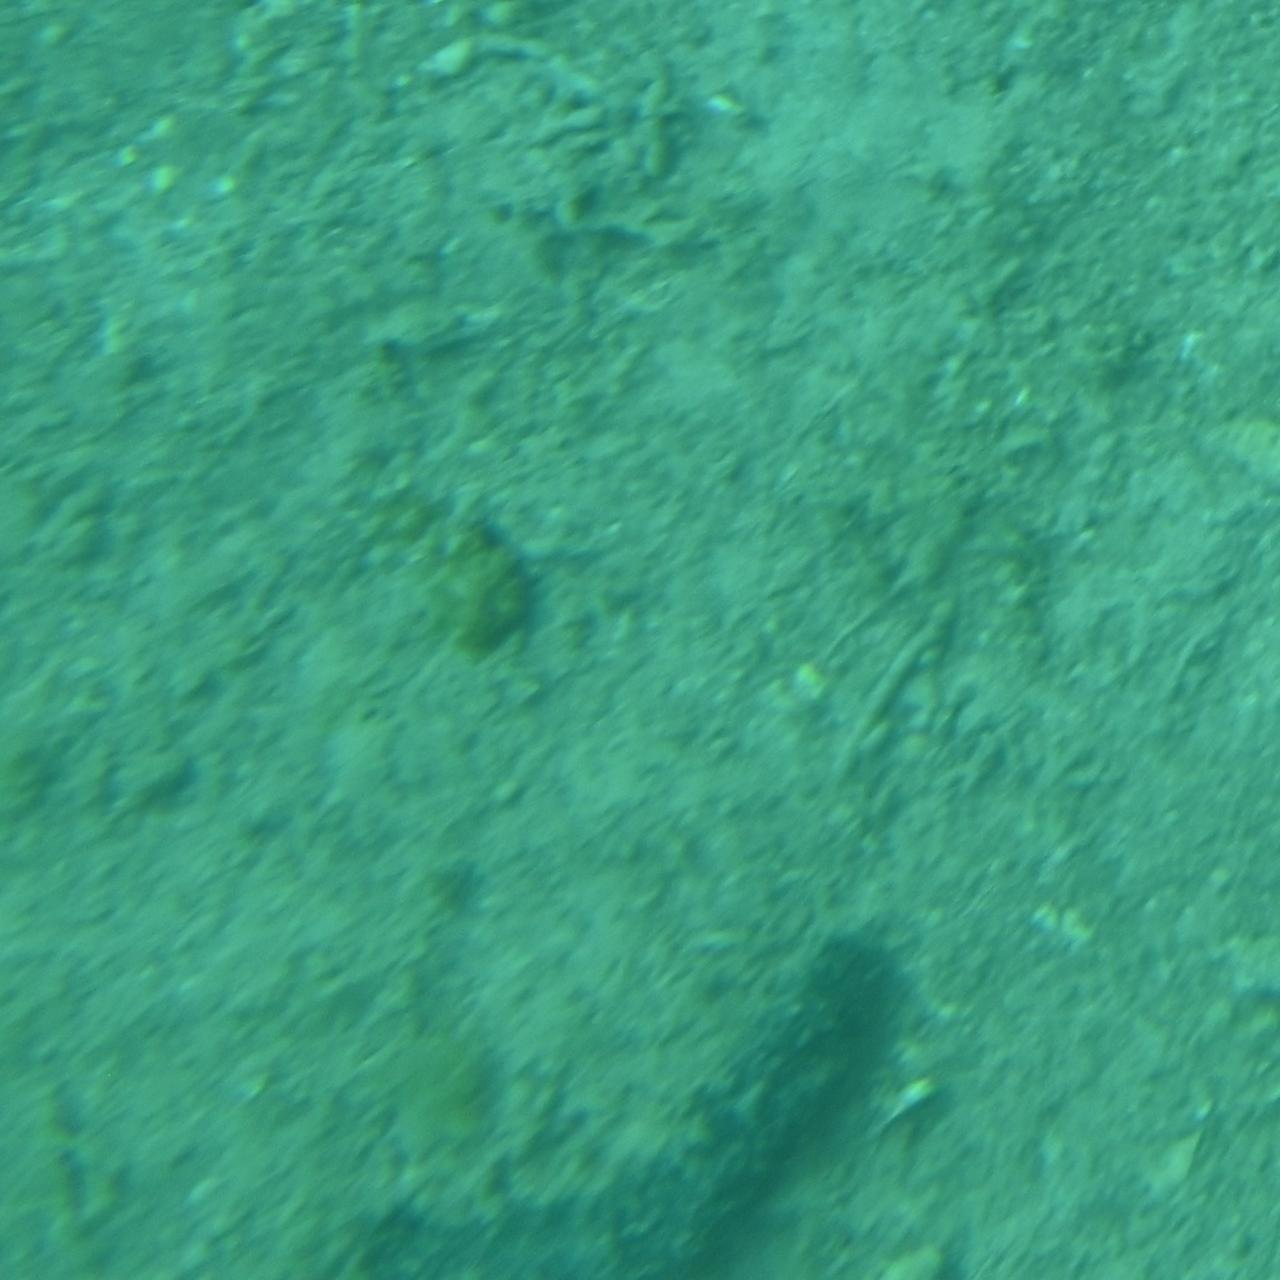Holothuria tubulosa: (354, 915, 926, 1279)
